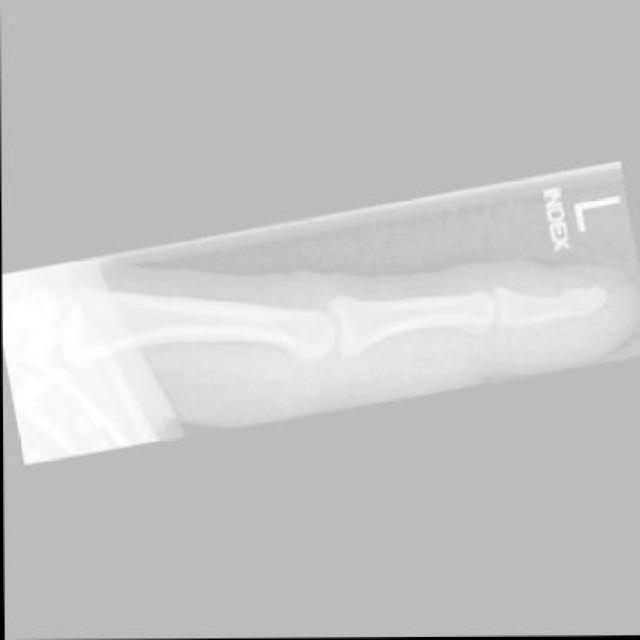Fracture: (554, 282, 615, 329)
